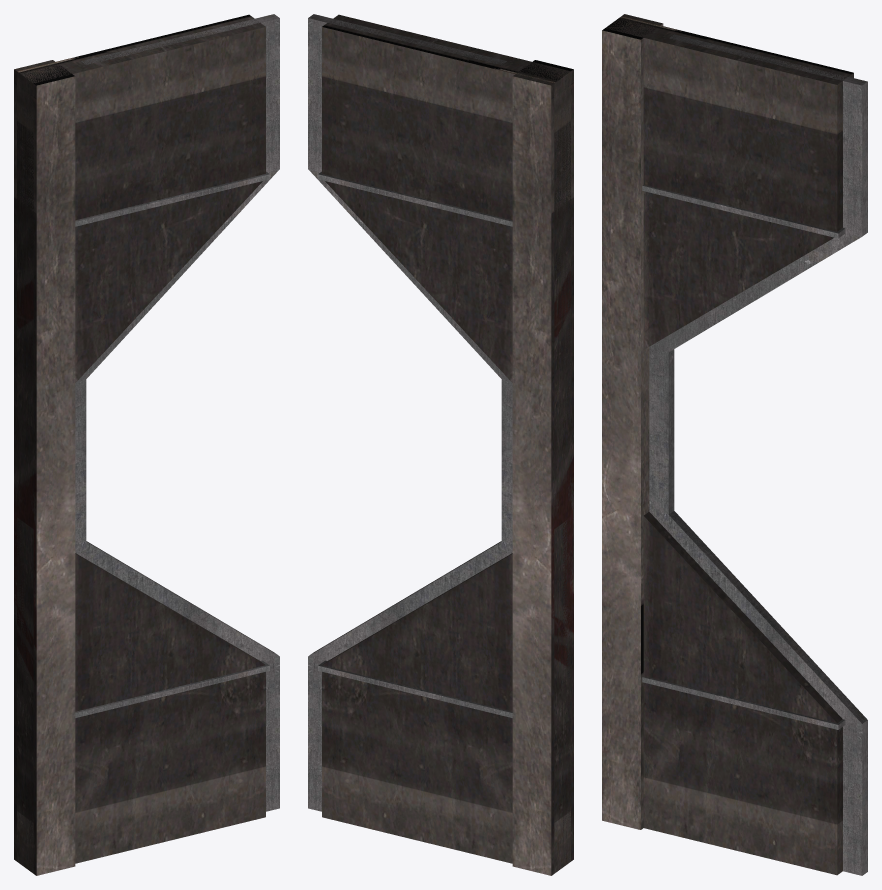
The model's file is heavydoor2.fbx.
3 renders of one model, left to right at view 1: azimuth 30°, elevation 25°; view 2: azimuth 150°, elevation 25°; view 3: azimuth 330°, elevation 25°, orthographic.
Parts seen in each view (by area): view 1: Scene_Root (×2); view 2: Scene_Root (×2); view 3: Scene_Root (×2).
Boxes of the visible parts, x1,y1,x2,y2 form: Scene_Root (×2): [14, 14, 279, 875]; Scene_Root (×2): [308, 14, 573, 875]; Scene_Root (×2): [602, 14, 867, 875].
Size of the model in its own units: 104 by 312 by 16.
